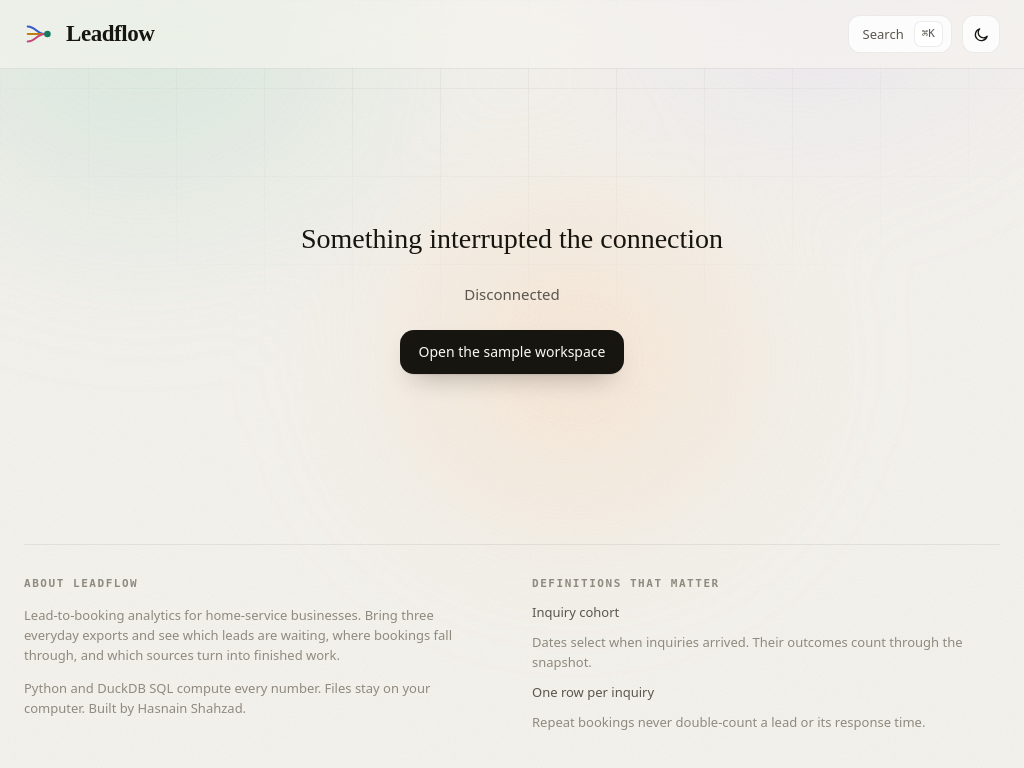
workspace recovery › retries metadata even when the sample workspace is already selected
Expected: the text "Disconnected" is shown, [464,283,560,307]
Click the button "Open the sample workspace" at (512, 352), box [400,330,624,374]
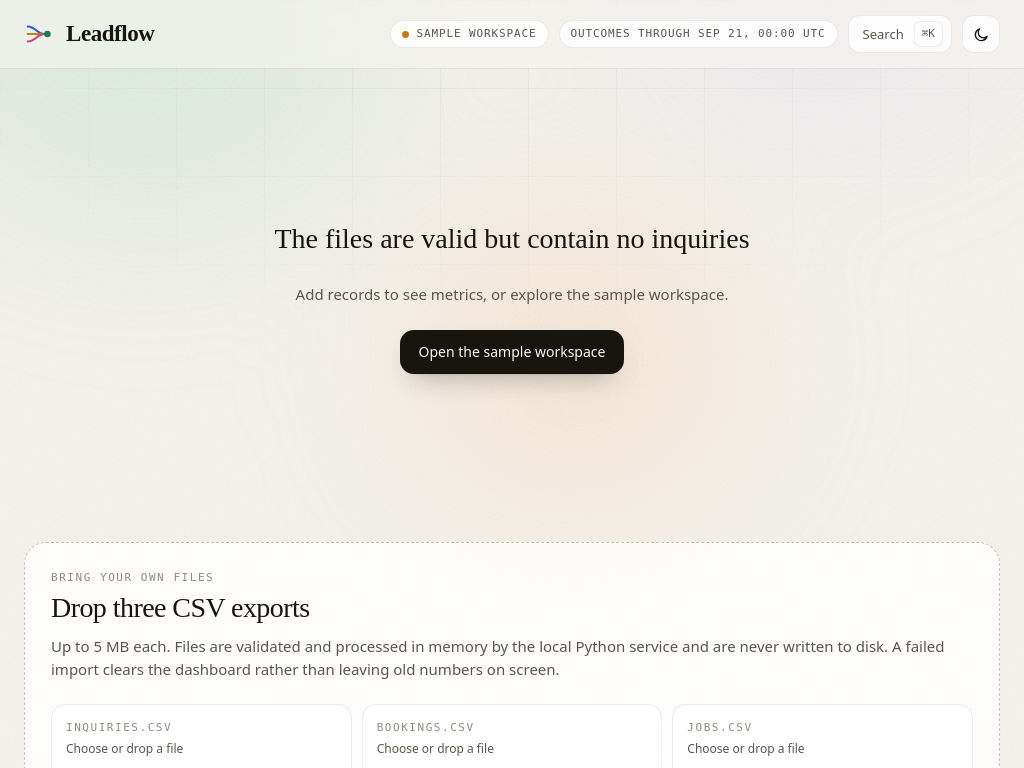
Result: the heading "The files are valid but contain no inquiries" is shown at [274,217,750,260]
Result: the text "Disconnected" is gone
